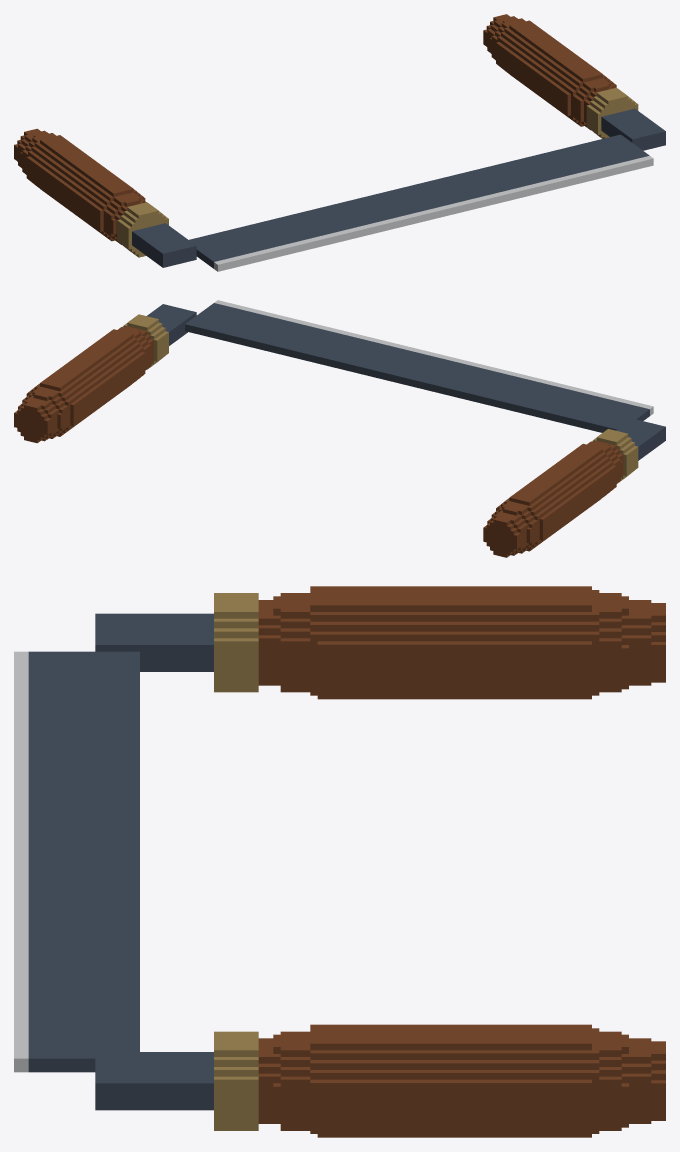
Rendered from scraper_steel.glb.
3 views of the same model, one above another, from view 1: azimuth 30°, elevation 25°; view 2: azimuth 150°, elevation 25°; view 3: azimuth 270°, elevation 25° (orthographic). The views are drawn at different scales.
Visible parts, largest first — view 1: scraper_steel:compound; view 2: scraper_steel:compound; view 3: scraper_steel:compound.
Boxes of the visible parts, left/top/right/bottom form: scraper_steel:compound: left=14, top=14, right=665, bottom=271; scraper_steel:compound: left=14, top=300, right=665, bottom=557; scraper_steel:compound: left=14, top=586, right=665, bottom=1137.
Size of the model in its own units: 0.308 by 0.028 by 0.176.
